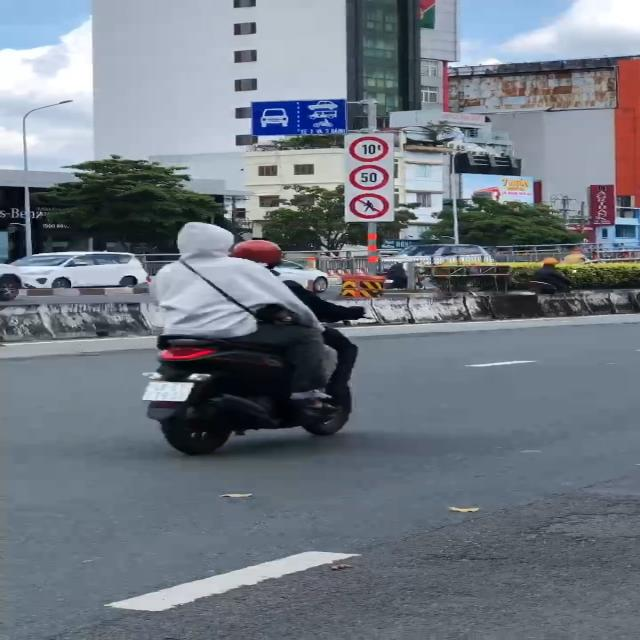Bien bao cam nguoi di bo: (349, 190, 395, 220)
Bien bao toc do toi da cho phep: (344, 162, 396, 191)
